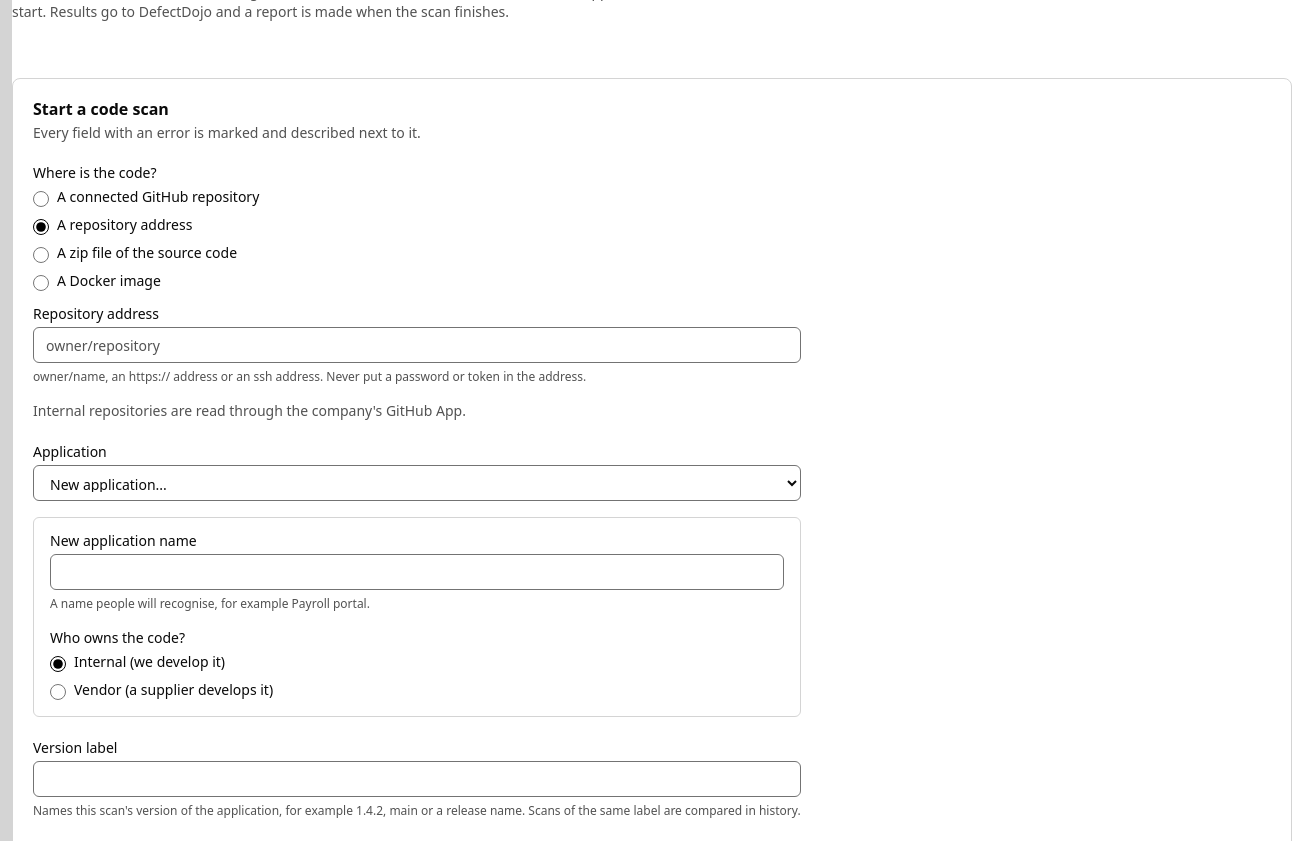
Scenario: SastPage › asks for the vendor and the hosting of a new vendor application
This screenshot has width=1292, height=841.
What coordinates should you click on to do the following:
click the radio button labelled "Vendor (a supplier develops it)"
I would click on:
 (58, 692)
Its box is 50,684 -> 66,700.
(page scrolled)
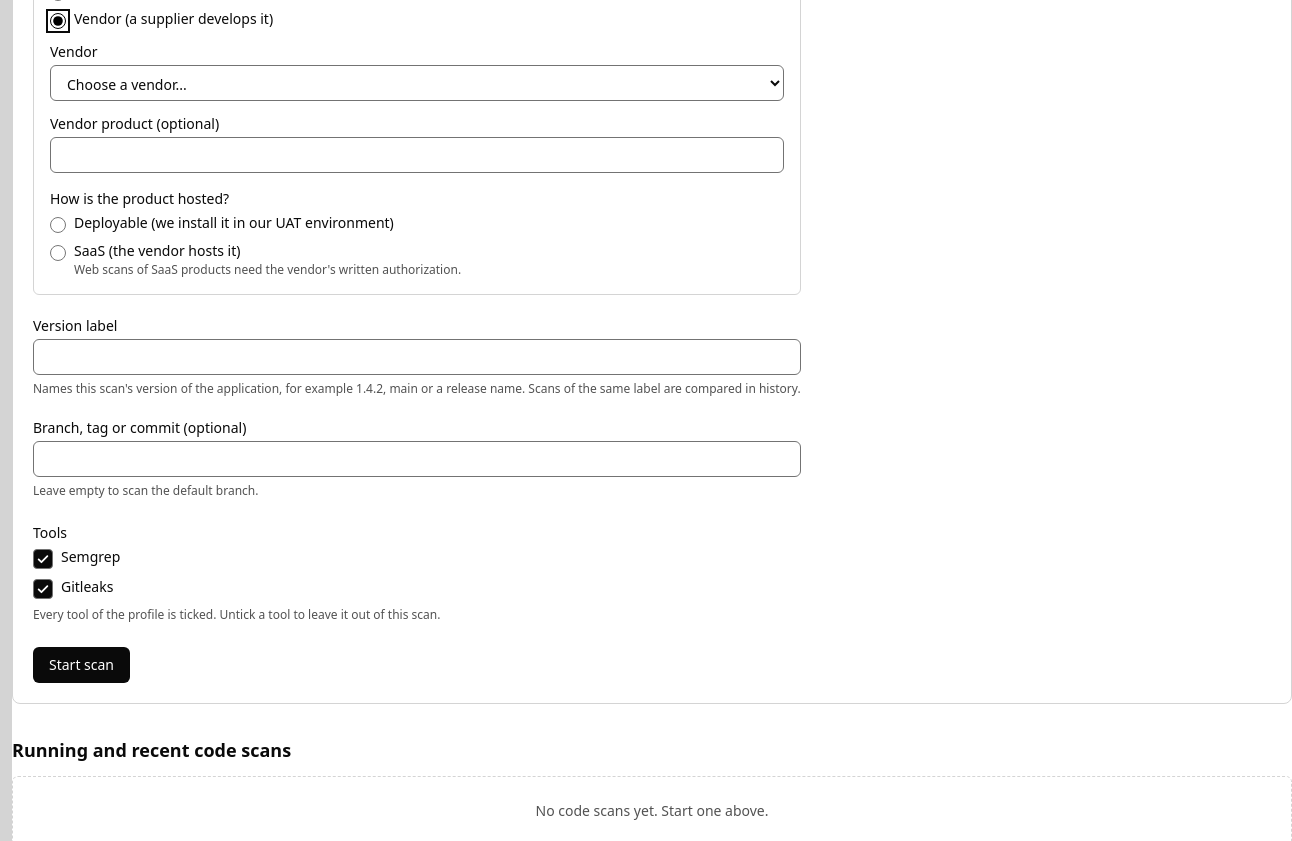
Result: the dropdown labelled "Vendor" is shown at 50,64 -> 784,100
Result: the radio button labelled "Deployable (we install it in our UAT environment)" is shown at 50,216 -> 66,232
Result: the radio button labelled "SaaS (the vendor hosts it)" is shown at 50,244 -> 66,260
What coordinates should you click on to do the following:
click the button "Start scan"
I would click on:
 (82, 665)
Its box is 33,647 -> 130,683.
(page scrolled)
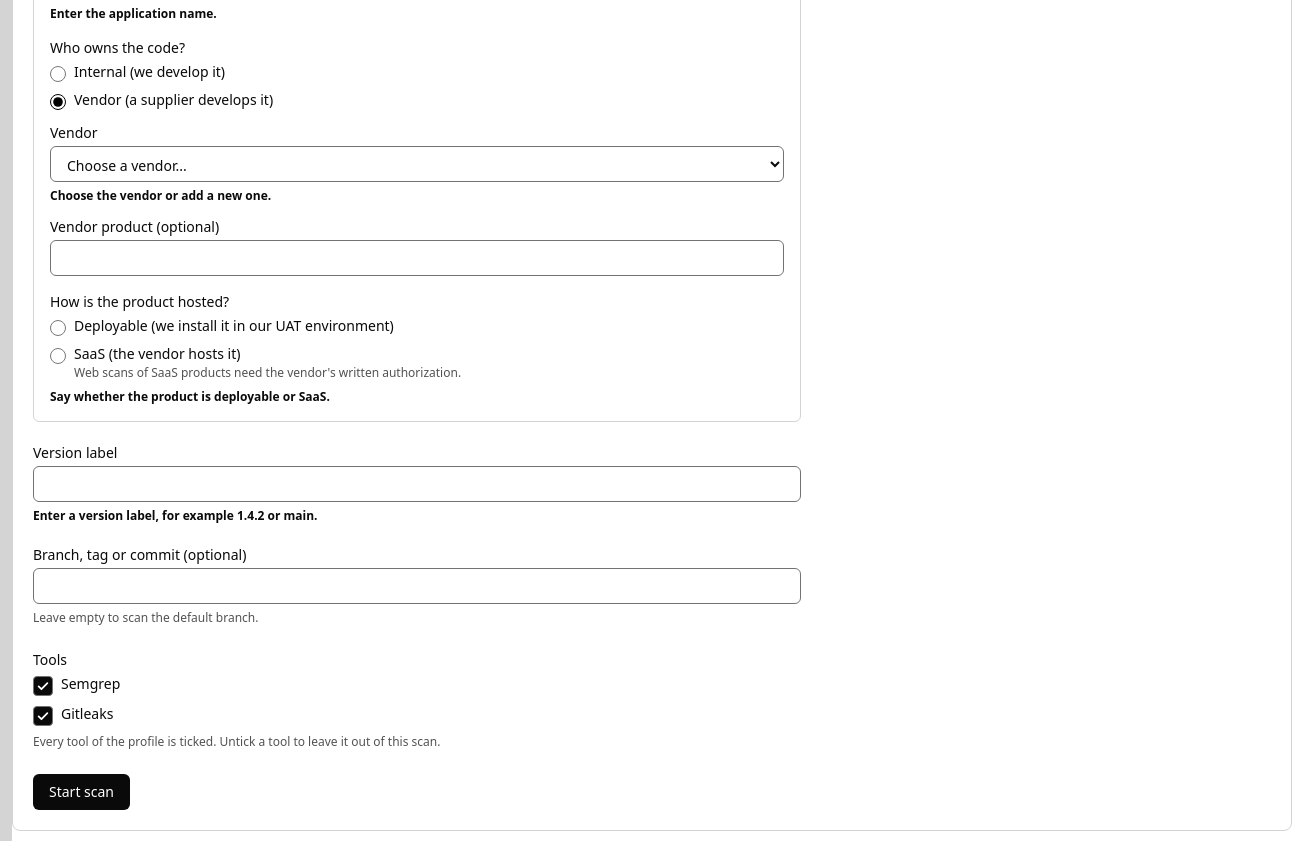
Result: the text "Choose the vendor or add a new one." is shown at 50,186 -> 271,204
Result: the text "Say whether the product is deployable or SaaS." is shown at 50,388 -> 330,405
